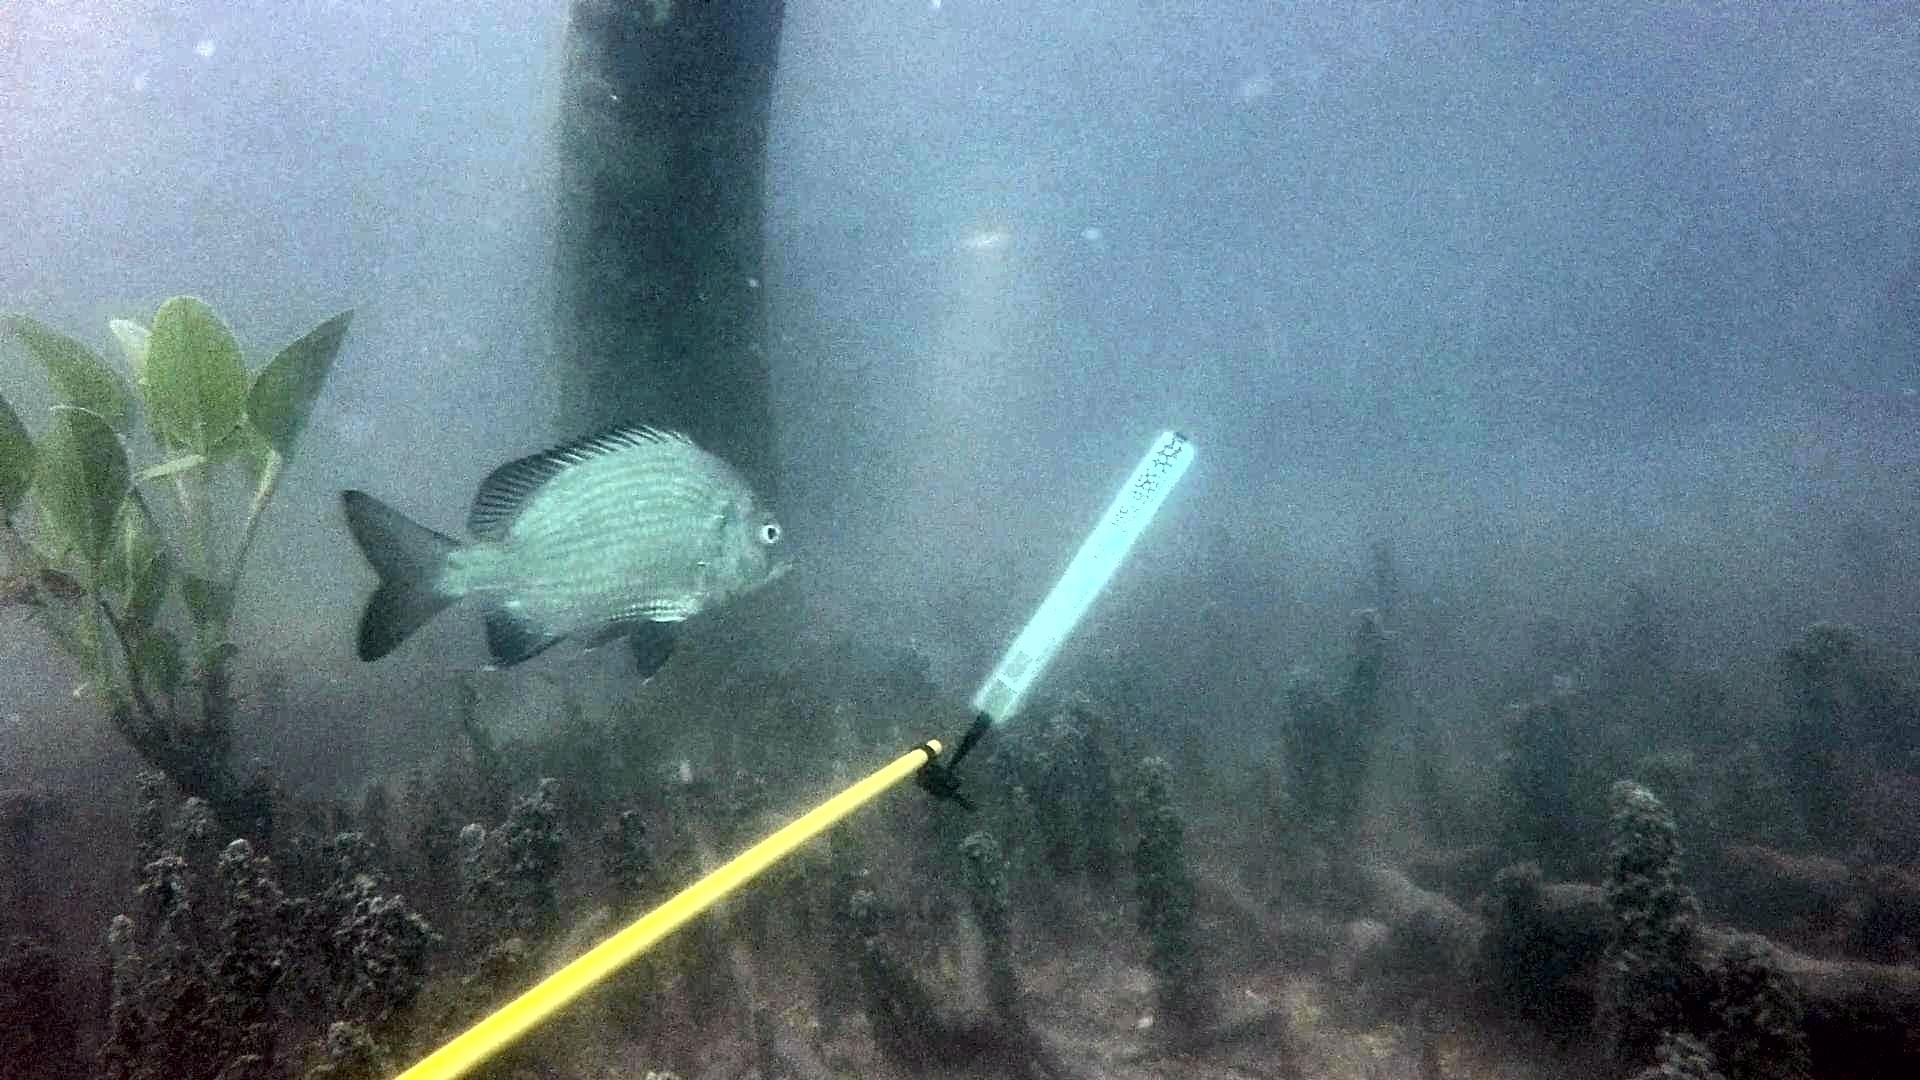acanthopagrus palmaris: (338, 410, 808, 684)
